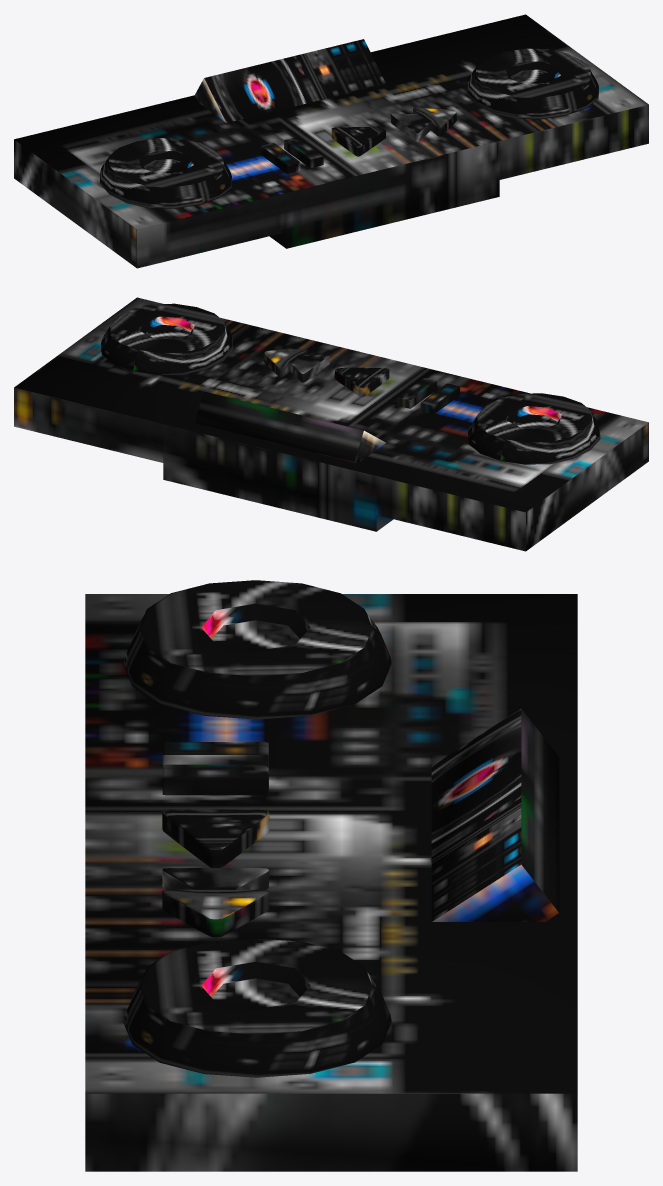
The model's file is cdj.fbx.
3 renders of one model, top to bottom at view 1: azimuth 30°, elevation 25°; view 2: azimuth 150°, elevation 25°; view 3: azimuth 270°, elevation 25°, orthographic. The views are drawn at different scales.
Visible parts, largest first — view 1: Cube.003, Cube.004, Cube.002, Cube.001, Cube.009, Cube.006, Cube.005; view 2: Cube.003, Cube.001, Cube.002, Cube.004, Cube.009, Cube.006, Cube.005; view 3: Cube.003, Cube.002, Cube.001, Cube.004, Cube.009, Cube.006, Cube.005.
Part boxes in pixels (x1,y1,x2,y2): Cube.003: (14, 14, 648, 268); Cube.004: (194, 39, 385, 122); Cube.002: (466, 48, 598, 119); Cube.001: (100, 138, 231, 208); Cube.009: (390, 108, 456, 141); Cube.006: (260, 137, 323, 173); Cube.005: (331, 127, 385, 156); Cube.003: (14, 297, 648, 551); Cube.001: (468, 393, 600, 464); Cube.002: (101, 303, 233, 374); Cube.004: (194, 391, 385, 463); Cube.009: (263, 348, 329, 382); Cube.006: (397, 378, 459, 414); Cube.005: (334, 367, 389, 397); Cube.003: (85, 594, 577, 1171); Cube.002: (123, 938, 391, 1077); Cube.001: (123, 580, 391, 719); Cube.004: (431, 708, 559, 921); Cube.009: (162, 868, 269, 937); Cube.006: (162, 742, 268, 795); Cube.005: (162, 809, 269, 867).
Size of the model in its own units: 960 by 151 by 400.
